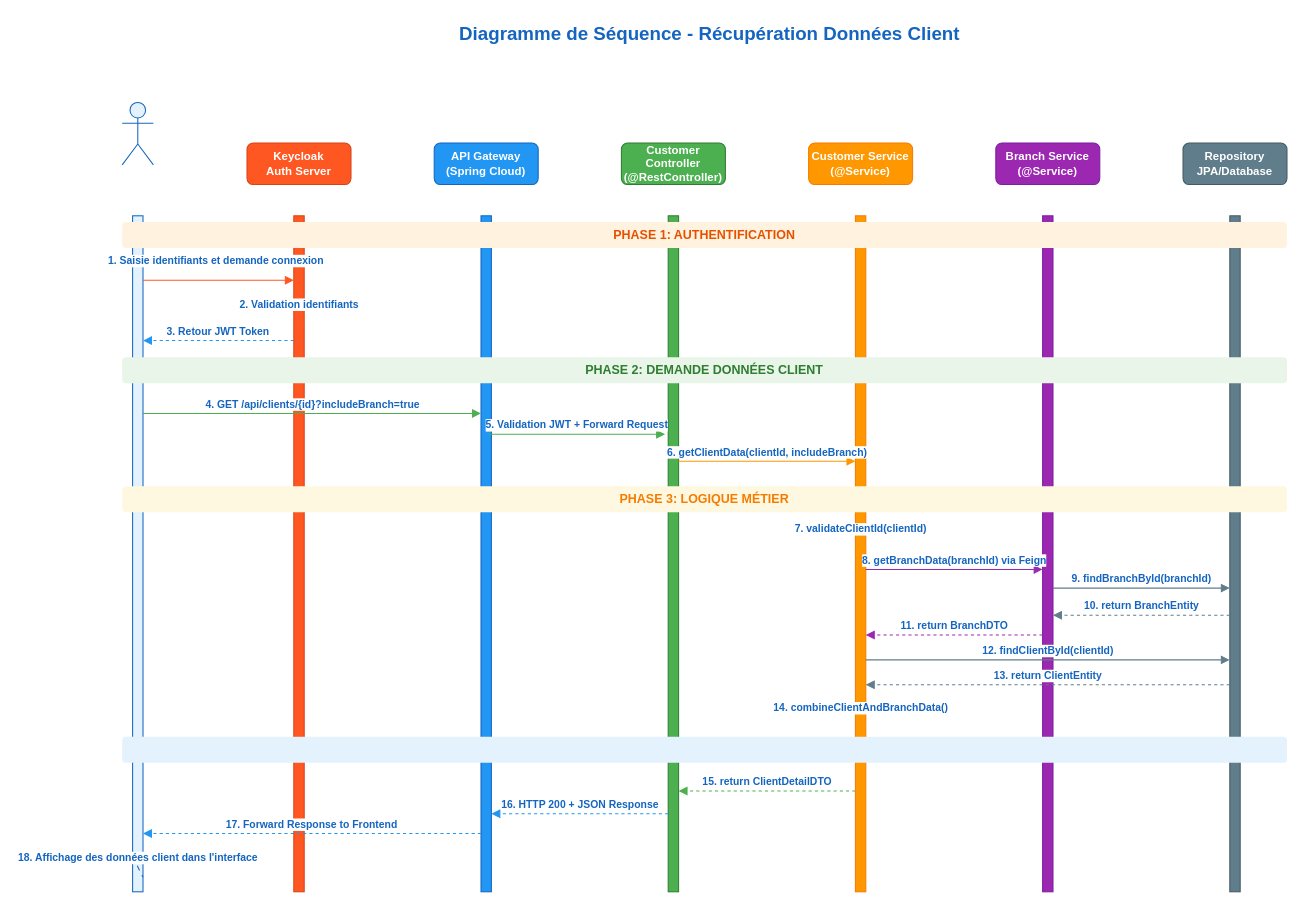
This 1305x910 diagram has some shape labels left out. Each missing label, with the centre of its shape:
"PHASE 4: RETOUR RÉPONSE" goes at point (704, 749).
"Utilisateur (Frontend Angular)" goes at point (137, 133).
